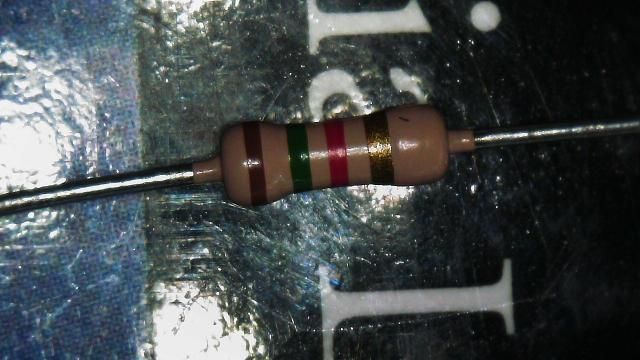brown: (242, 120, 268, 205)
gold: (365, 112, 393, 184)
green: (288, 122, 312, 192)
red: (330, 120, 347, 185)
resistor: (192, 88, 480, 218)
